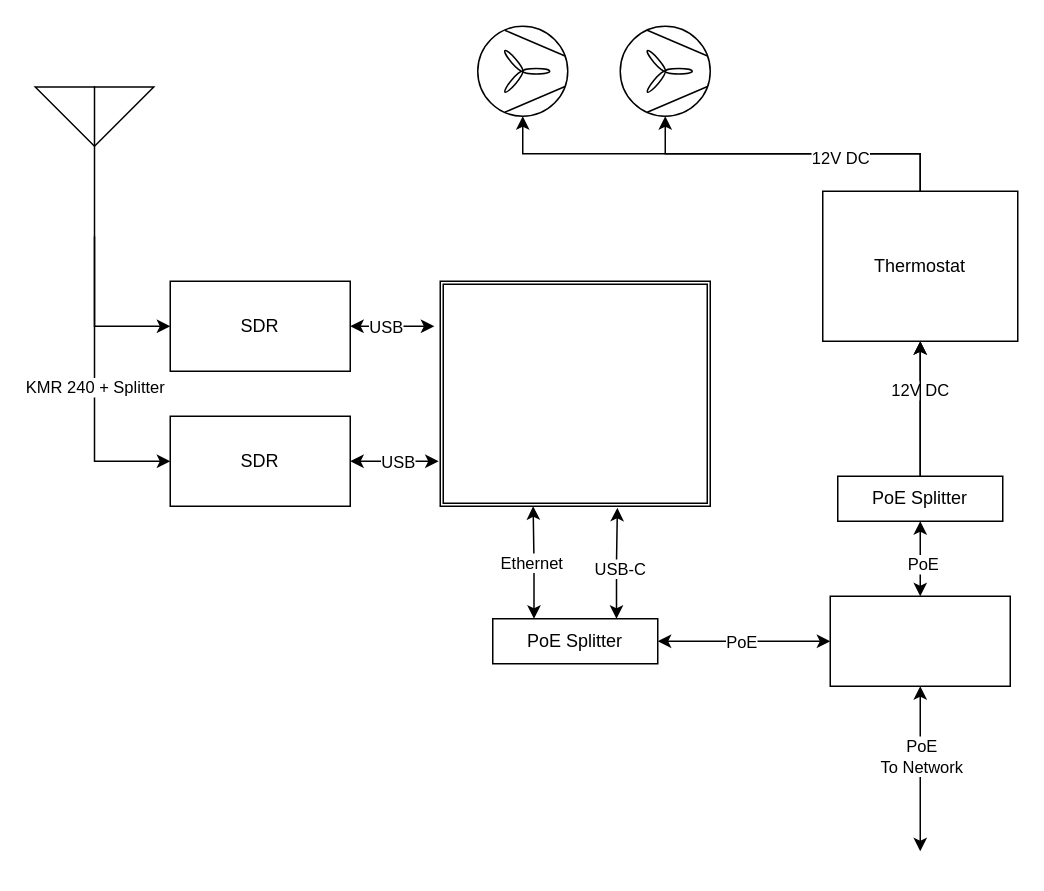
Some shapes in this 1044 by 891 pixel diagram are drawn without their labels. The centre of each missing label's shape, as x and y in pixels:
"PoE Extender": pixel 919 640
Raspberry Pi 4: pixel 574 393
